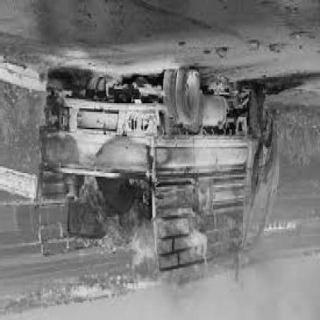Fire: (65, 165, 217, 288)
